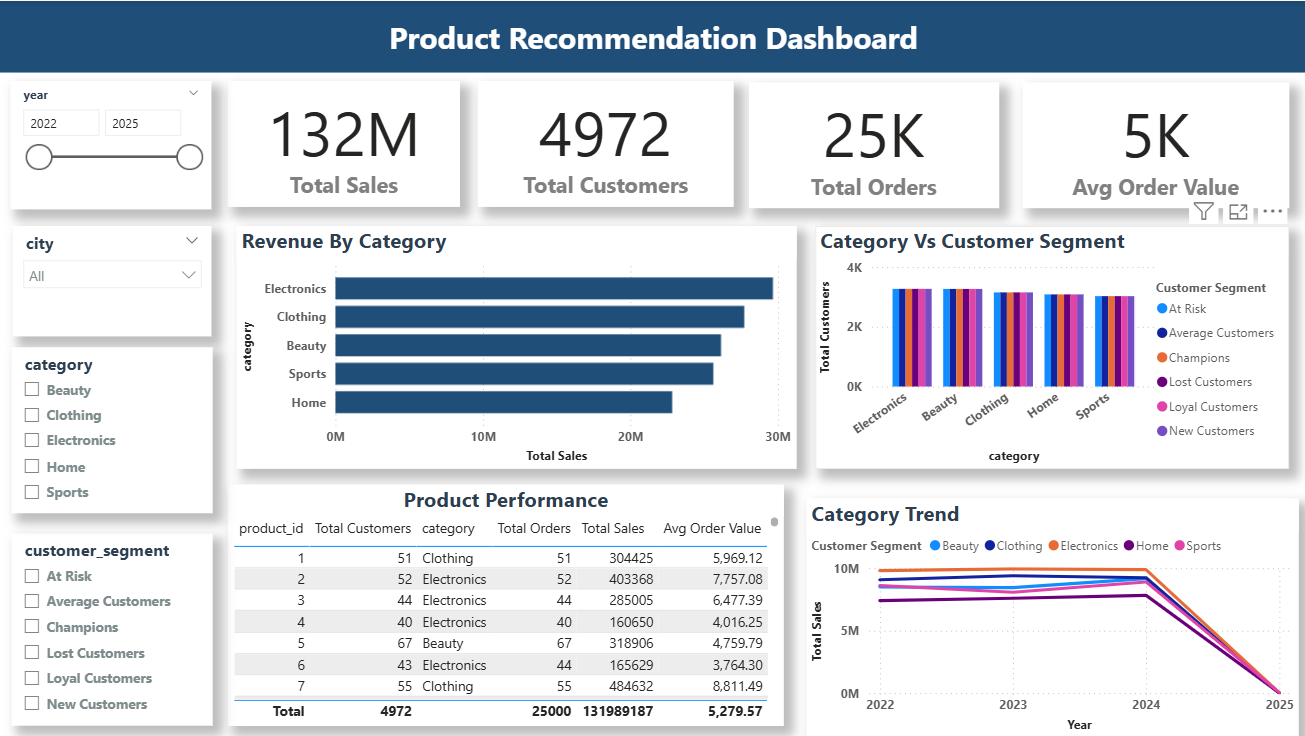

The page's visual inventory and layout, read from the dashboard file:
{"tool":"powerbi","page":{"name":"Product Recommendation Dashboard","canvas":[1280,720],"ordinal":4},"visuals":[{"type":"shape","box":[0,0,1280.3,70],"z":0},{"type":"card","fields":{"Values":["public dim_products.Total Sales"]},"box":[223.8,78.3,227.4,123.5],"z":1000},{"type":"card","fields":{"Values":["public dim_products.Total Customers"]},"box":[468.3,78.3,250.7,123.5],"z":2000},{"type":"card","fields":{"Values":["public dim_products.Total Orders"]},"box":[733.7,79.5,244.6,123.5],"z":3000},{"type":"barChart","title":"Revenue By Category","fields":{"Category":["public dim_products.category"],"Y":["public dim_products.Total Sales"]},"box":[232.3,220.1,547.8,237.2],"z":4000},{"type":"slicer","title":" Revenue by Channel","fields":{"Values":["public dim_date.year"]},"box":[11,78.3,196.9,126],"z":5000},{"type":"slicer","title":" Revenue by Channel","fields":{"Values":["public dim_customers.city"]},"box":[13.5,220.1,194.4,107.6],"z":6000},{"type":"card","fields":{"Values":["public dim_products.Avg Order Value"]},"box":[1001.5,79.5,260.5,123.5],"z":7000},{"type":"clusteredColumnChart","title":"Category Vs Customer Segment","fields":{"Category":["public dim_products.category"],"Y":["public dim_products.Total Customers"],"Series":["public rfm_segmentationss.customer_segment"]},"box":[798.5,220.1,463.5,237.2],"z":8000},{"type":"lineChart","title":" Category Trend","fields":{"Category":["public orders_fact.order_date.Variation.Date Hierarchy.Year"],"Series":["public dim_products.category"],"Y":["public dim_products.Total Sales"]},"box":[789.9,486.7,481.8,233.6],"z":9000},{"type":"tableEx","title":"Product Performance","fields":{"Values":["public dim_products.product_id","public dim_products.Total Customers","public dim_products.category","public dim_products.Total Orders","public dim_products.Total Sales","public dim_products.Avg Order Value"]},"box":[223.8,473.2,544.2,236],"z":10000},{"type":"slicer","title":" Revenue by Channel","fields":{"Values":["public rfm_segmentationss.customer_segment"]},"box":[12.2,520.9,196.9,188.3],"z":11000},{"type":"slicer","title":" Revenue by Channel","fields":{"Values":["public dim_products.category"]},"box":[12.2,338.7,196.9,162.6],"z":12000}]}

Visuals, with their boxes in screenshot pixels (x1, y1, x2, y2), scaled from the page's 1280x720 canvas onto the 1305x736 screenshot:
shape: x1=0, y1=0, x2=1304, y2=72
card - public dim_products.Total Sales: x1=228, y1=80, x2=460, y2=206
card - public dim_products.Total Customers: x1=477, y1=80, x2=733, y2=206
card - public dim_products.Total Orders: x1=748, y1=81, x2=997, y2=208
"Revenue By Category" barChart: x1=237, y1=225, x2=795, y2=467
" Revenue by Channel" slicer: x1=11, y1=80, x2=212, y2=209
" Revenue by Channel" slicer: x1=14, y1=225, x2=212, y2=335
card - public dim_products.Avg Order Value: x1=1021, y1=81, x2=1287, y2=208
"Category Vs Customer Segment" clusteredColumnChart: x1=814, y1=225, x2=1287, y2=467
" Category Trend" lineChart: x1=805, y1=498, x2=1297, y2=735
"Product Performance" tableEx: x1=228, y1=484, x2=783, y2=725
" Revenue by Channel" slicer: x1=12, y1=532, x2=213, y2=725
" Revenue by Channel" slicer: x1=12, y1=346, x2=213, y2=512
